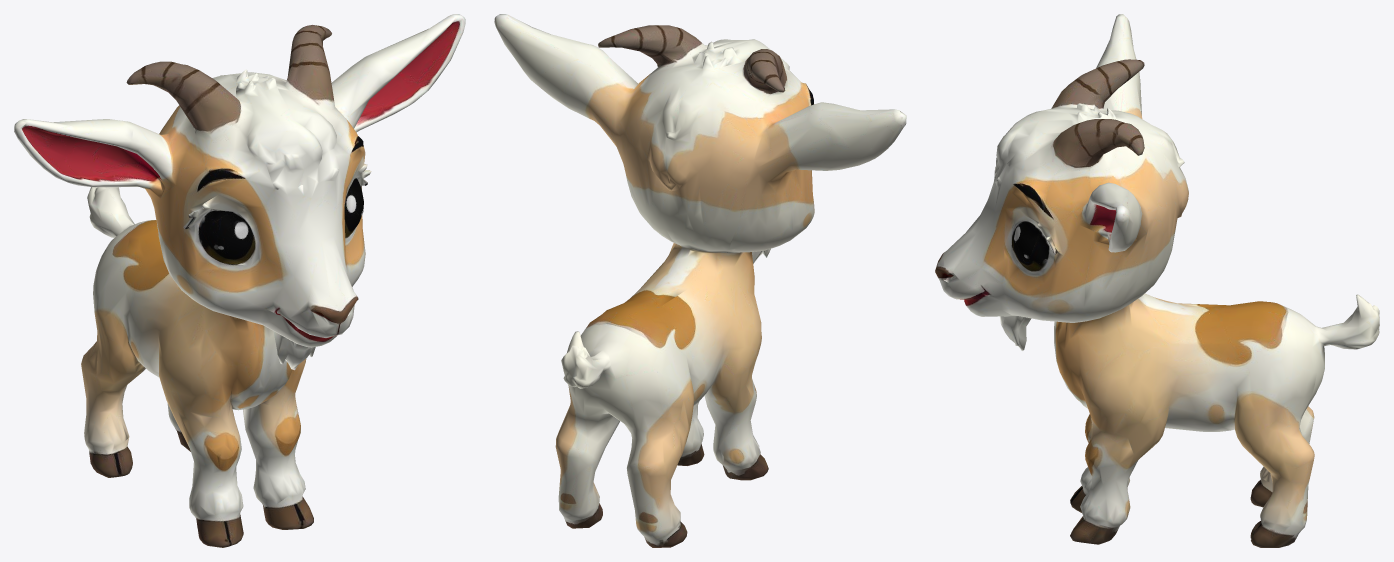
File: babygoat-v1.glb
The picture shows the model from 3 angles, left to right: view 1: azimuth 30°, elevation 25°; view 2: azimuth 150°, elevation 25°; view 3: azimuth 270°, elevation 25°; orthographic projection. The views are drawn at different scales.
Bounding box in the file's own units: 1.91 × 1.91 × 1.79.
1 material, 1 textured.
